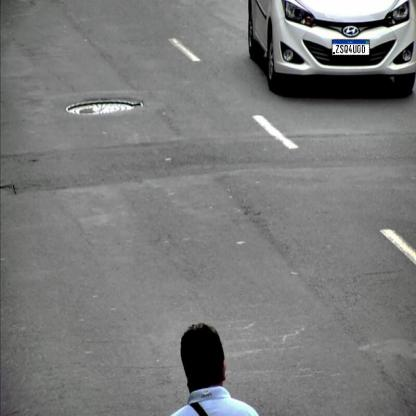PlacaM: (332, 40, 369, 56)
